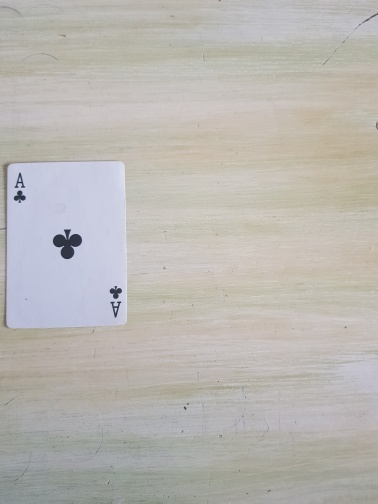ace: (6, 161, 127, 330)
